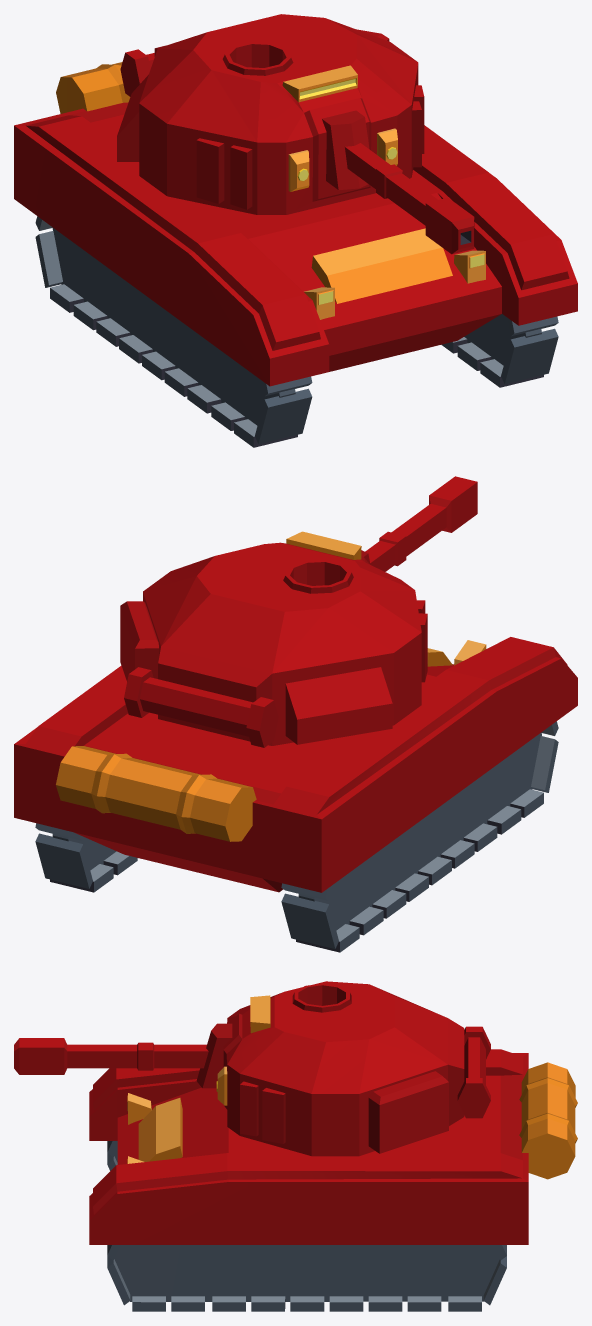
The model's file is Tank_Red.fbx.
The picture shows the model from 3 angles, top to bottom: view 1: azimuth 30°, elevation 25°; view 2: azimuth 150°, elevation 25°; view 3: azimuth 270°, elevation 25°; orthographic projection. The views are drawn at different scales.
Parts seen in each view (by area): view 1: Tank_Red; view 2: Tank_Red; view 3: Tank_Red.
Boxes of the visible parts, <box> form: Tank_Red: <box>14,14,577,447</box>; Tank_Red: <box>14,476,577,952</box>; Tank_Red: <box>14,981,577,1311</box>.
Size of the model in its own units: 179 by 157 by 331.
1 material, 1 textured.
